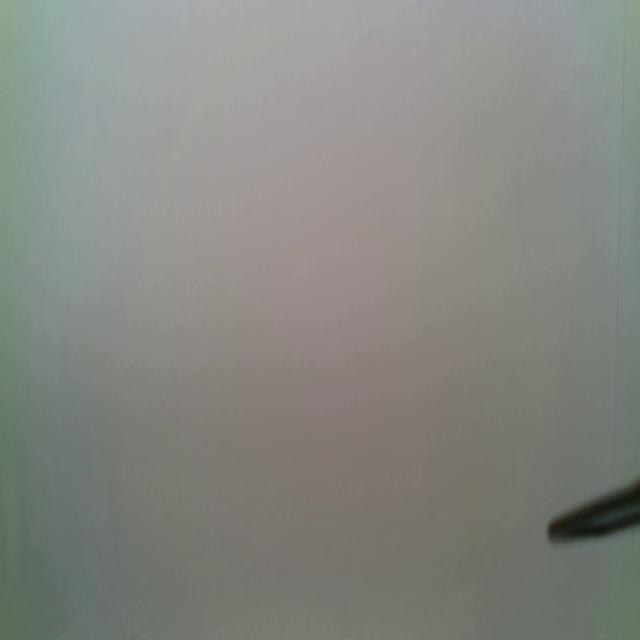crease: (610, 17, 628, 464)
